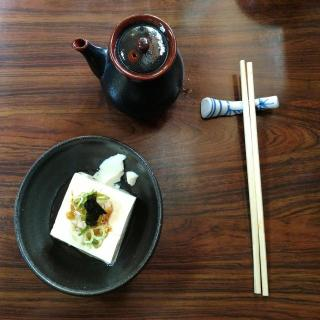Tahu: (46, 173, 138, 263)
